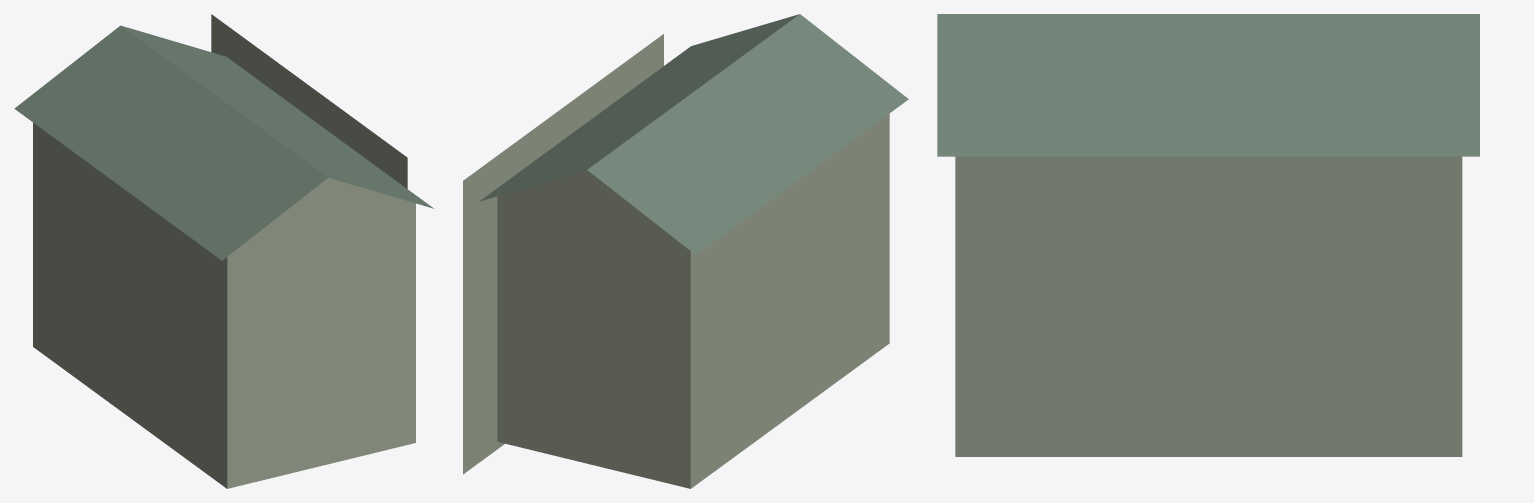
Rendered from home-sage.glb.
The picture shows the model from 3 angles, left to right: view 1: azimuth 30°, elevation 25°; view 2: azimuth 150°, elevation 25°; view 3: azimuth 270°, elevation 25°; orthographic projection. The views are drawn at different scales.
Parts seen in each view (by area): view 1: home-sage; view 2: home-sage; view 3: home-sage.
Boxes of the visible parts, box(x1,y1,x2,y2) form: home-sage: box(14, 14, 433, 488); home-sage: box(463, 14, 908, 488); home-sage: box(937, 14, 1479, 456).
Bounding box in the file's own units: 6.26 × 8.78 × 11.37.
